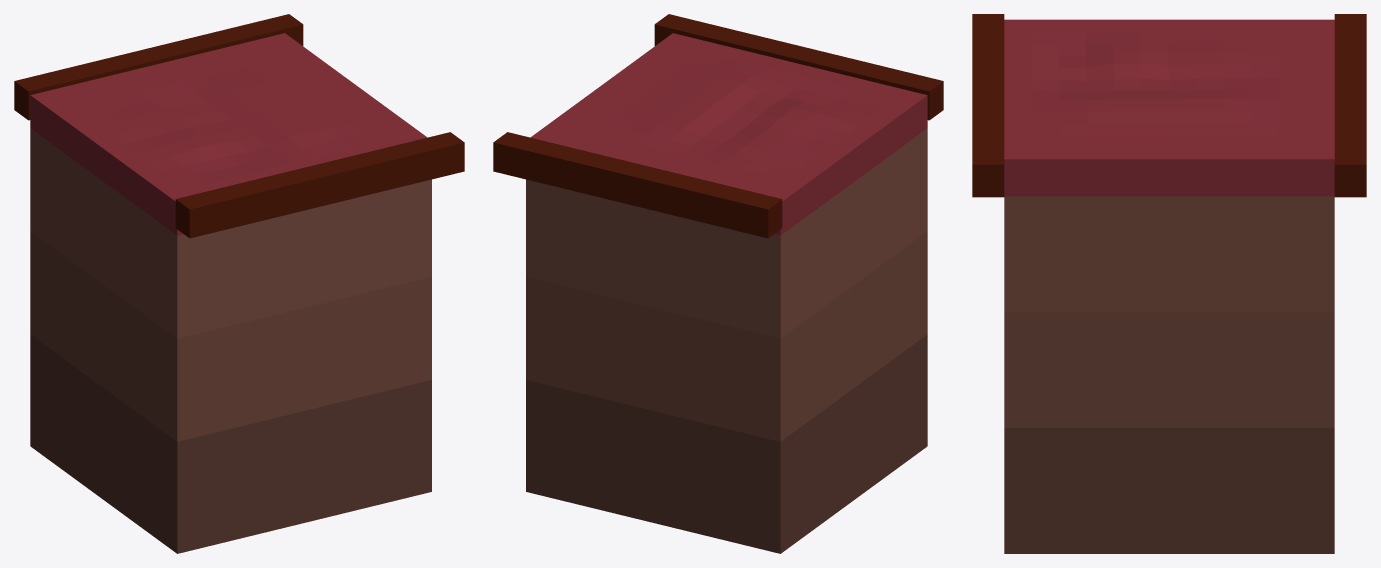
The model's file is Plano17.fbx.
3 views of the same model, side by side, from view 1: azimuth 30°, elevation 25°; view 2: azimuth 150°, elevation 25°; view 3: azimuth 270°, elevation 25° (orthographic). The views are drawn at different scales.
Visible parts, largest first — view 1: Plane.087, Plane.086, Cube.1727; view 2: Plane.087, Plane.086, Cube.1727; view 3: Plane.087, Plane.086, Cube.1727.
Boxes of the visible parts, box(x1,y1,x2,y2) form: Plane.087: box(30, 128, 431, 553); Plane.086: box(30, 33, 427, 235); Cube.1727: box(14, 14, 464, 238); Plane.087: box(526, 128, 927, 553); Plane.086: box(530, 33, 927, 235); Cube.1727: box(493, 14, 943, 238); Plane.087: box(1004, 196, 1334, 553); Plane.086: box(1004, 19, 1334, 196); Cube.1727: box(972, 14, 1366, 197).
Size of the model in its own units: 864 by 1067 by 955.
